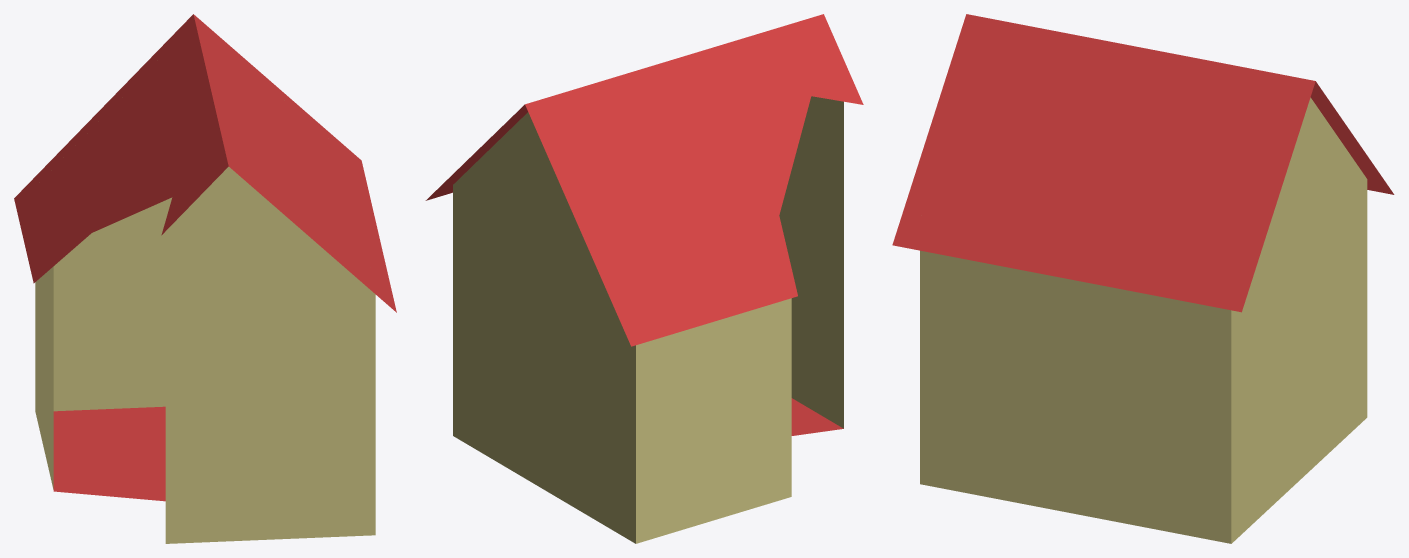
The picture shows the model from 3 angles, left to right: view 1: azimuth 30°, elevation 25°; view 2: azimuth 150°, elevation 25°; view 3: azimuth 270°, elevation 25°; orthographic projection. The views are drawn at different scales.
Size of the model in its own units: 10.23 by 12.09 by 10.77.
